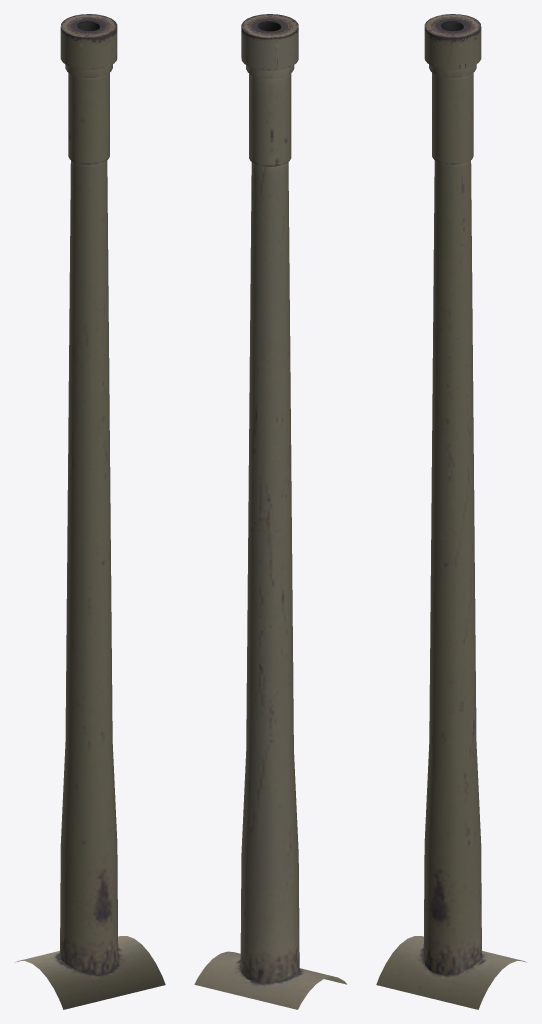
Rendered from Gun_01.glb.
The picture shows the model from 3 angles, left to right: view 1: azimuth 30°, elevation 25°; view 2: azimuth 150°, elevation 25°; view 3: azimuth 330°, elevation 25°; orthographic projection.
Parts seen in each view (by area): view 1: set_0_group_0; view 2: set_0_group_0; view 3: set_0_group_0.
Boxes of the visible parts, x1,y1,x2,y2 form: set_0_group_0: [15, 14, 165, 1009]; set_0_group_0: [194, 14, 346, 1009]; set_0_group_0: [376, 14, 526, 1009].
Size of the model in its own units: 0.4409 by 3.92 by 0.3673.
Materials: 1 (1 with a texture image).
